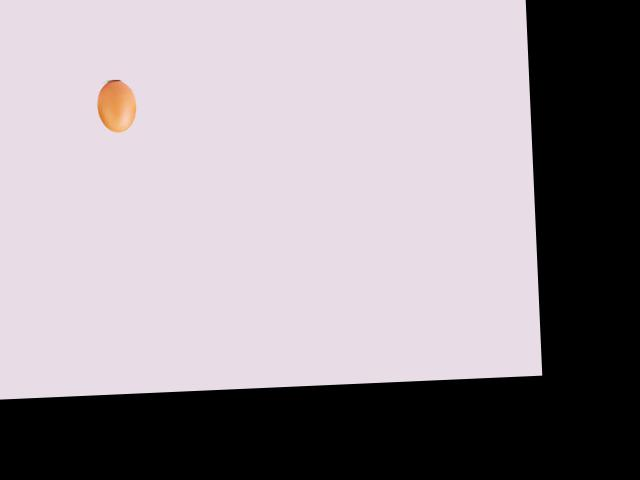egg: (96, 79, 136, 133)
